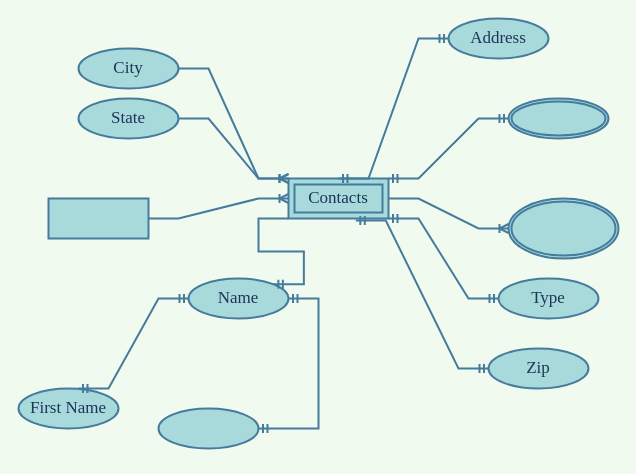
Some shapes in this 636 by 474 pixel diagram are drawn without their labels. The shapes that lost their labels are listed below. From the top down, each one's box as (x1, y1, x2, y2) in pixels, then its label:
(507, 97, 609, 139): Email
(47, 197, 149, 239): Address Book
(507, 197, 619, 259): Phone Number
(157, 407, 259, 449): Last Name
